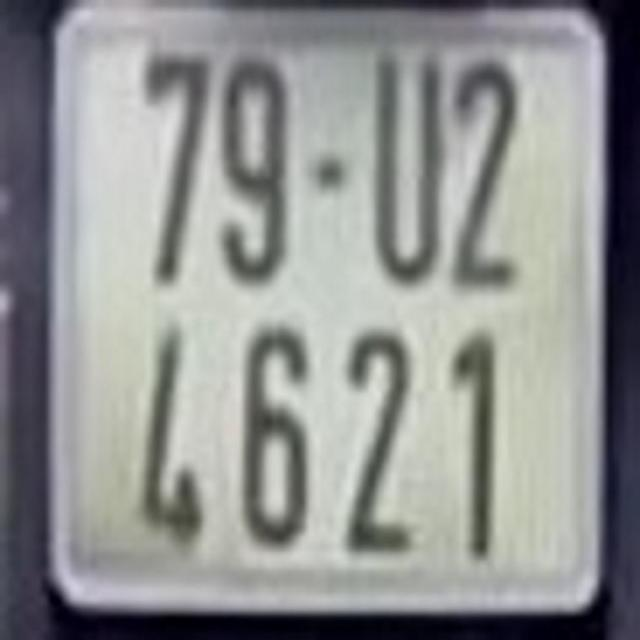1: (437, 306, 526, 554)
2: (344, 292, 419, 551), (452, 34, 522, 301)
4: (133, 318, 214, 556)
6: (234, 307, 321, 551)
7: (131, 40, 212, 291)
9: (221, 28, 299, 302)
U: (367, 44, 448, 284)
